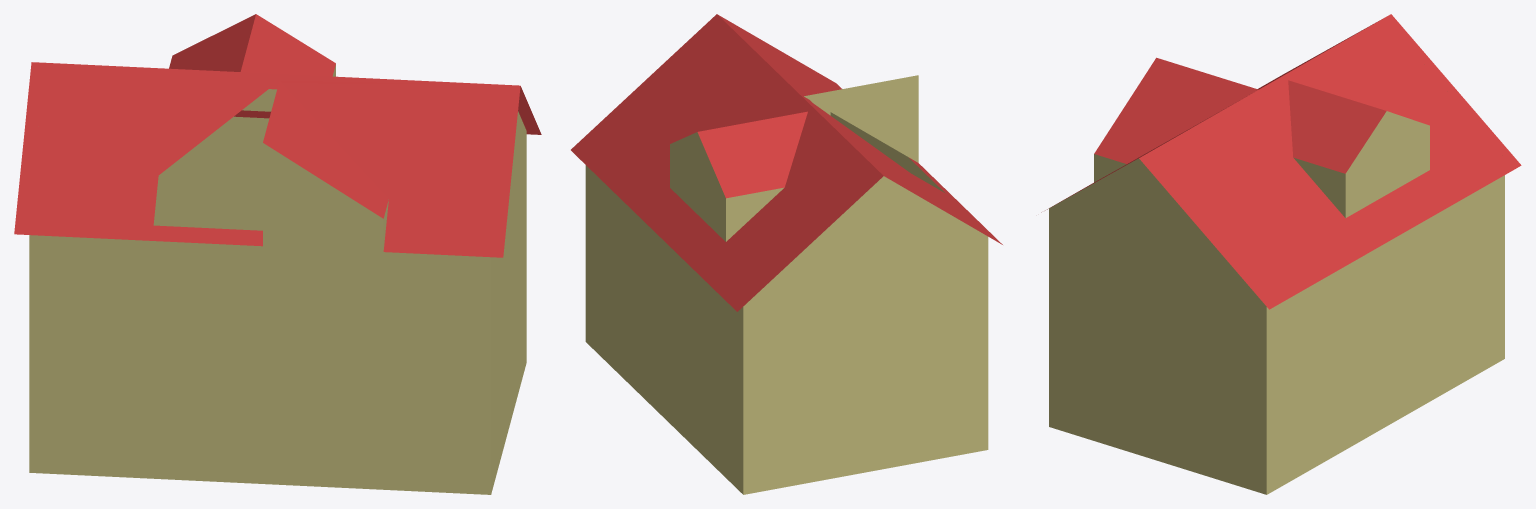
3 renders of one model, left to right at view 1: azimuth 30°, elevation 25°; view 2: azimuth 150°, elevation 25°; view 3: azimuth 270°, elevation 25°, orthographic. The views are drawn at different scales.
Bounding box in the file's own units: 21.75 × 20.6 × 14.07.
